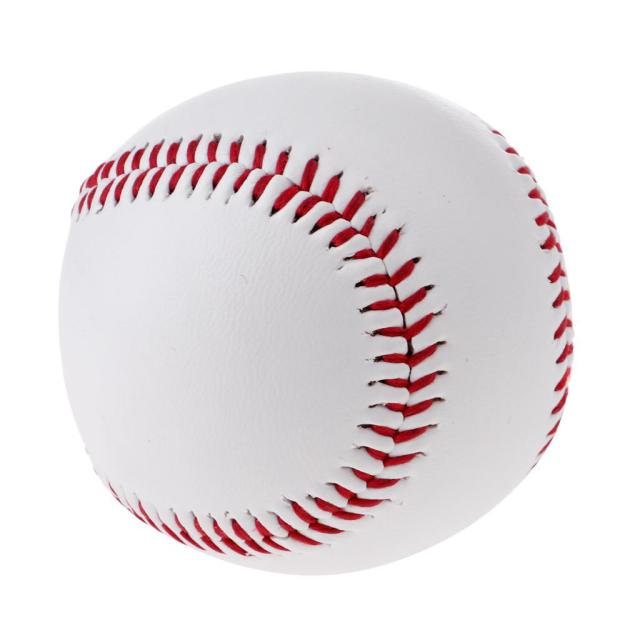baseball: (61, 72, 572, 576)
